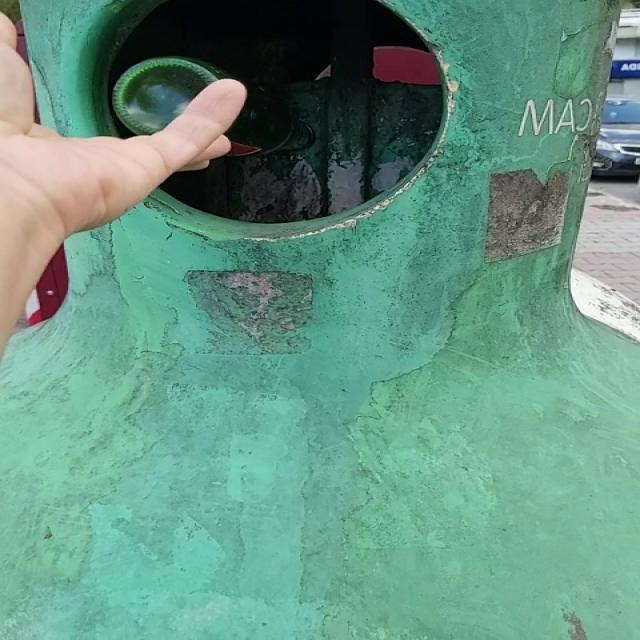Glass: (112, 56, 231, 135), (225, 84, 309, 156)
